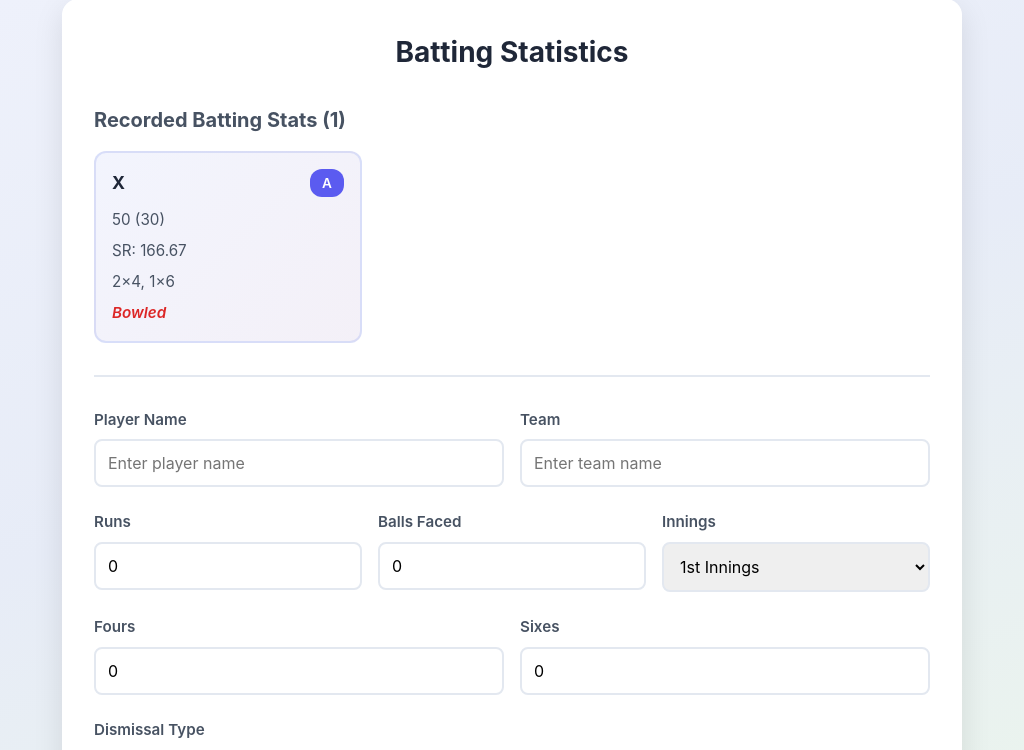
Test case: BattingStats calculations › shows overall average when existingStats are present
Replace the text in the number field labelled "Runs" with "30": (228, 566) [94, 542, 362, 590]
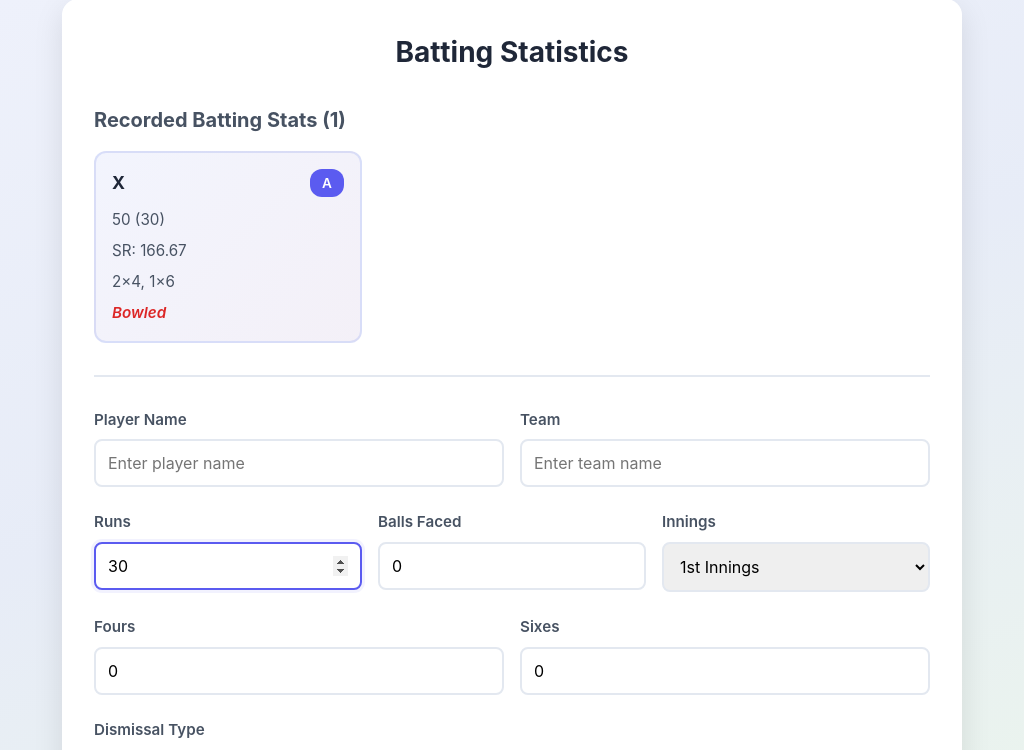
Replace the text in the number field labelled "Balls Faced" with "20": (512, 566) [378, 542, 646, 590]
(page scrolled)
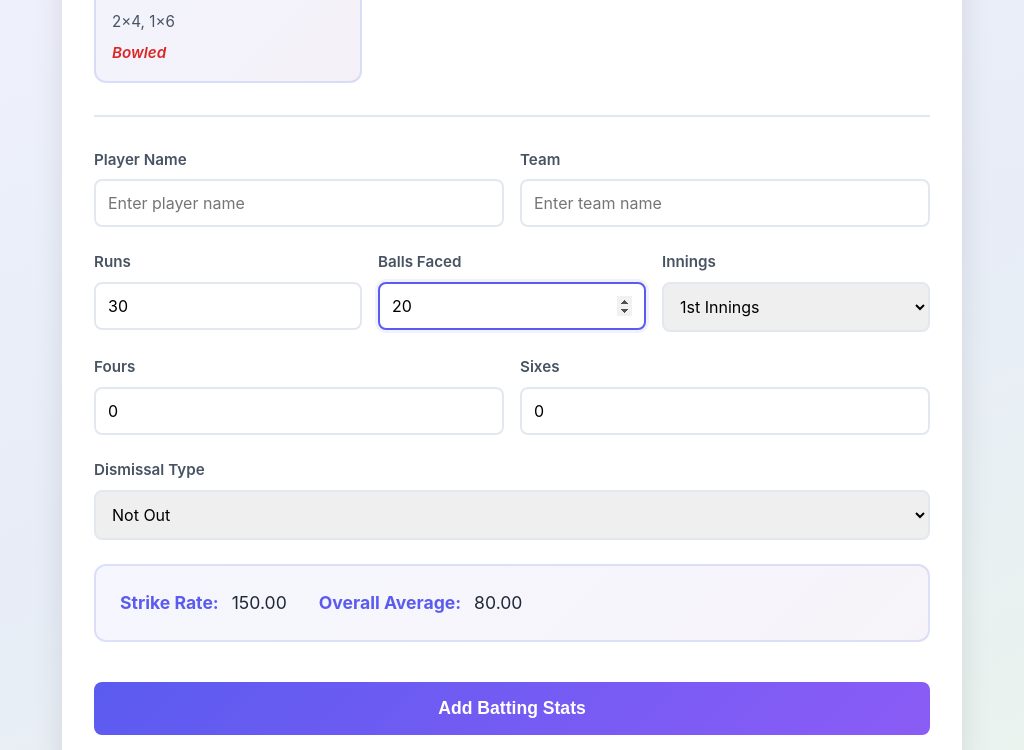
Expected: the text "Overall Average:" is shown, [319, 592, 461, 613]
